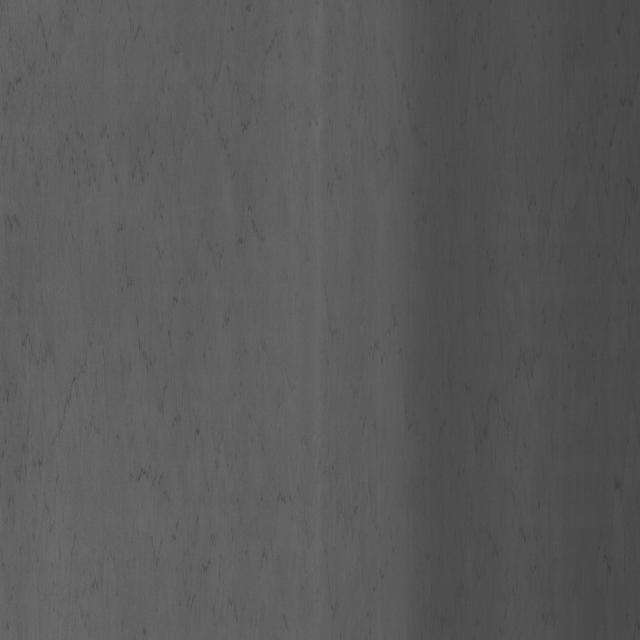inclusion: (20, 67, 235, 527)
